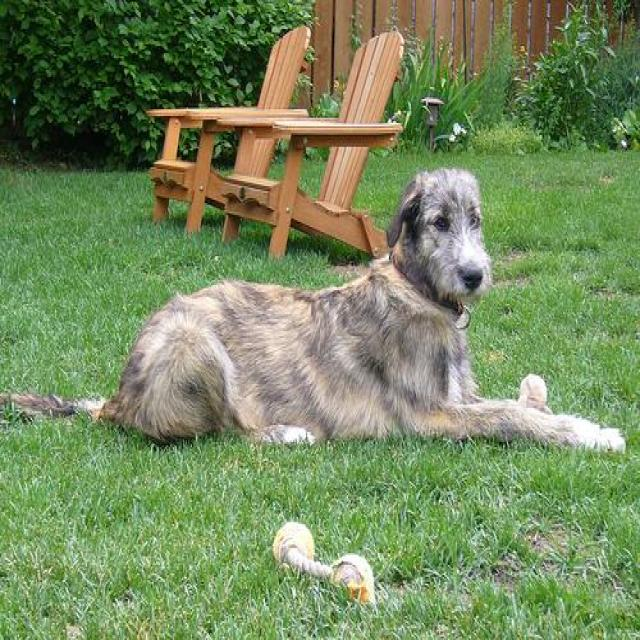relax: (6, 134, 640, 473)
